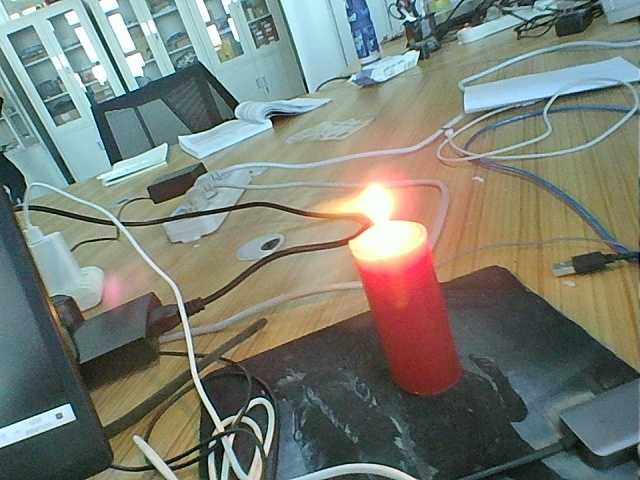candle: (347, 249, 463, 395)
fire: (348, 192, 410, 243)
